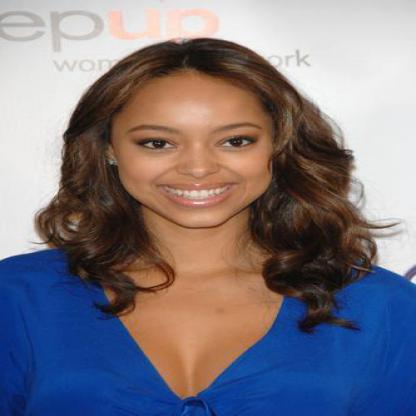long-hair: (23, 228, 396, 299)
